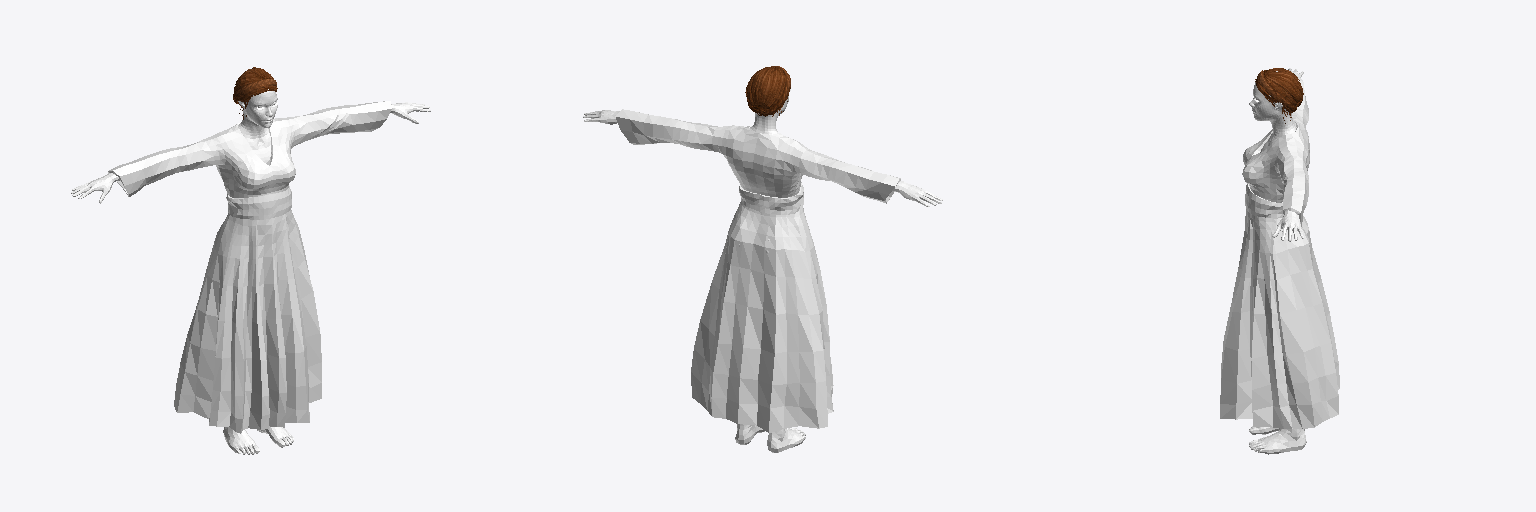
3 renders of one model, left to right at view 1: azimuth 30°, elevation 25°; view 2: azimuth 150°, elevation 25°; view 3: azimuth 270°, elevation 25°, orthographic.
Parts seen in each view (by area): view 1: Tops, Body, Hair; view 2: Tops, Body, Hair; view 3: Tops, Body, Hair.
Boxes of the visible parts, x1,y1,x2,y2 form: Tops: [108, 101, 391, 433]; Body: [71, 89, 430, 454]; Hair: [233, 67, 277, 119]; Tops: [615, 109, 900, 432]; Body: [583, 96, 942, 452]; Hair: [745, 66, 790, 116]; Tops: [1220, 76, 1339, 428]; Body: [1249, 68, 1306, 454]; Hair: [1255, 68, 1303, 123].
Bounding box in the file's own units: 179 × 178 × 52.26.
4 materials, 1 textured.